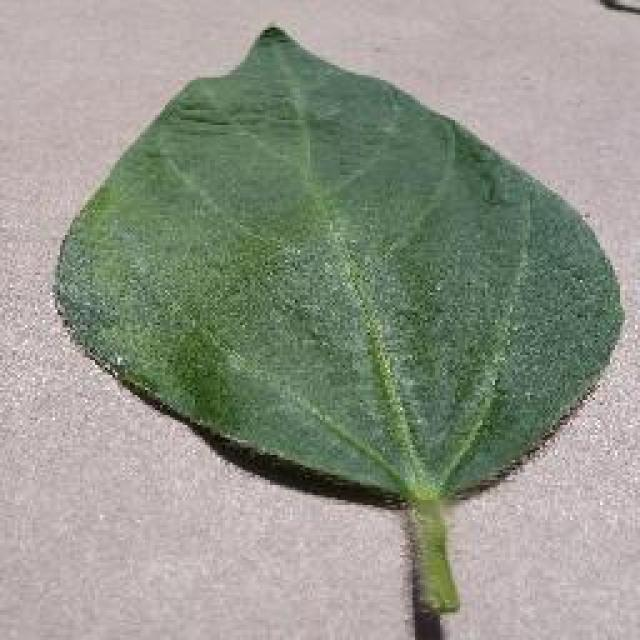Soy_healthy: (66, 80, 609, 470)
